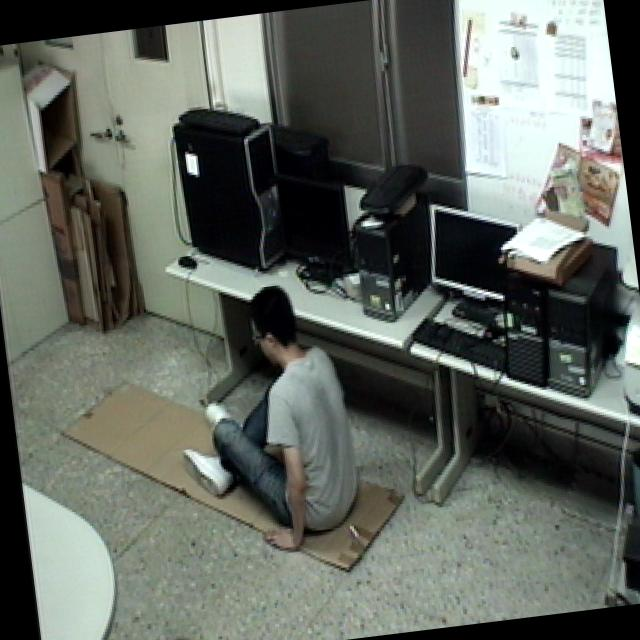sit: (153, 272, 370, 563)
